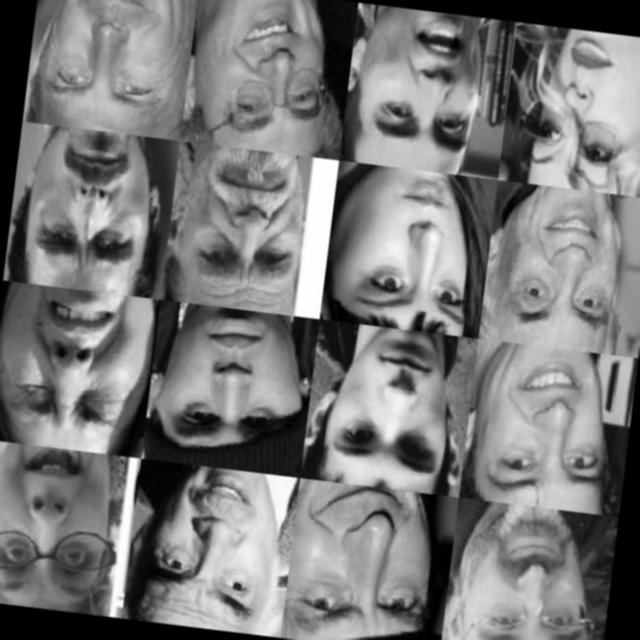angry: (510, 28, 640, 175), (0, 449, 127, 597), (356, 10, 492, 148)
happy: (444, 505, 606, 640), (292, 487, 432, 630), (195, 0, 346, 131), (477, 348, 608, 496), (32, 0, 184, 124), (500, 201, 631, 343)
neutral: (320, 176, 476, 324), (316, 332, 456, 480), (146, 314, 296, 452), (136, 472, 269, 618), (22, 135, 161, 274), (176, 158, 302, 297)
sad: (0, 288, 136, 435)
